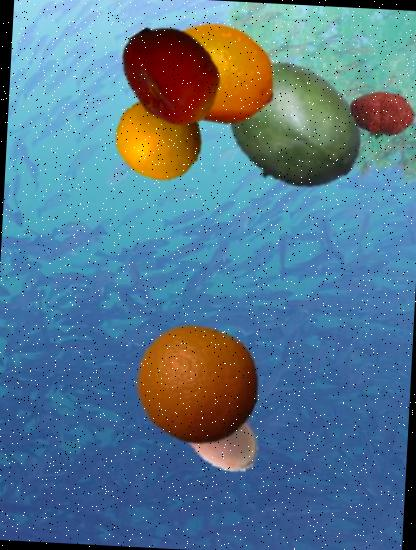Grapefruit: (114, 93, 206, 184)
Hazelnut: (157, 369, 273, 486)
Lemon: (155, 10, 282, 136)
Mango: (218, 52, 368, 202)
Nectarine: (116, 18, 230, 132)
Orange: (133, 320, 262, 450)
Strawberry: (350, 82, 416, 149)
